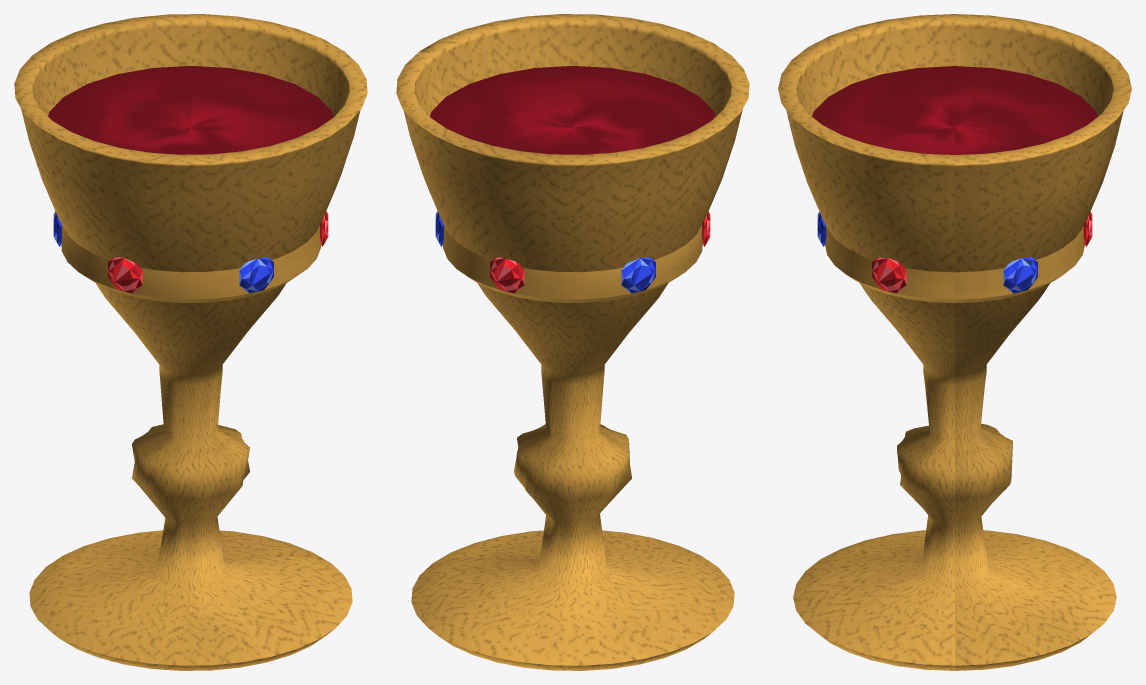
File: RoyalChalice.glb
3 views of the same model, side by side, from view 1: azimuth 30°, elevation 25°; view 2: azimuth 150°, elevation 25°; view 3: azimuth 270°, elevation 25° (orthographic).
Parts seen in each view (by area): view 1: RoyalChalice; view 2: RoyalChalice; view 3: RoyalChalice.
Part boxes in pixels (bbox=[...]): RoyalChalice: bbox=[14, 14, 367, 670]; RoyalChalice: bbox=[396, 14, 749, 670]; RoyalChalice: bbox=[778, 14, 1131, 670].
Size of the model in its own units: 0.656 by 1.06 by 0.656.
1 material, 1 textured.
